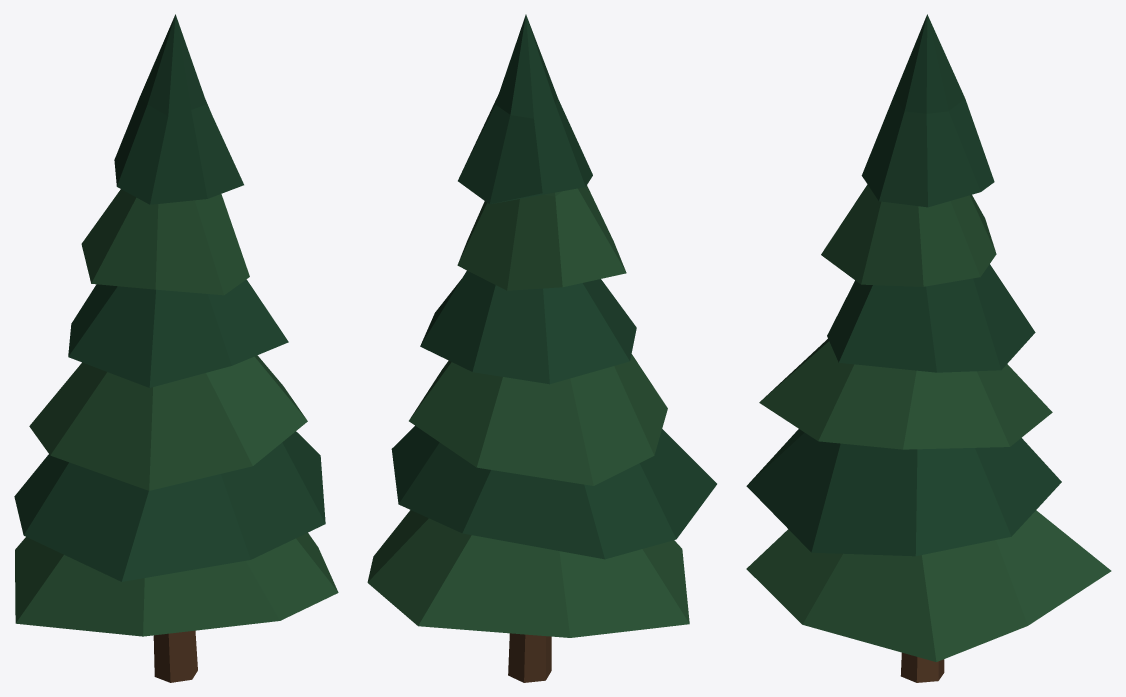
The model's file is Tree_Pine_C.glb.
3 views of the same model, side by side, from view 1: azimuth 30°, elevation 25°; view 2: azimuth 150°, elevation 25°; view 3: azimuth 270°, elevation 25° (orthographic).
Parts seen in each view (by area): view 1: Tree_Pine_C; view 2: Tree_Pine_C; view 3: Tree_Pine_C.
Boxes of the visible parts, bbox=[...] form: Tree_Pine_C: bbox=[14, 14, 338, 682]; Tree_Pine_C: bbox=[367, 14, 716, 682]; Tree_Pine_C: bbox=[746, 14, 1111, 682].
Size of the model in its own units: 2.7 by 5.5 by 2.75.
